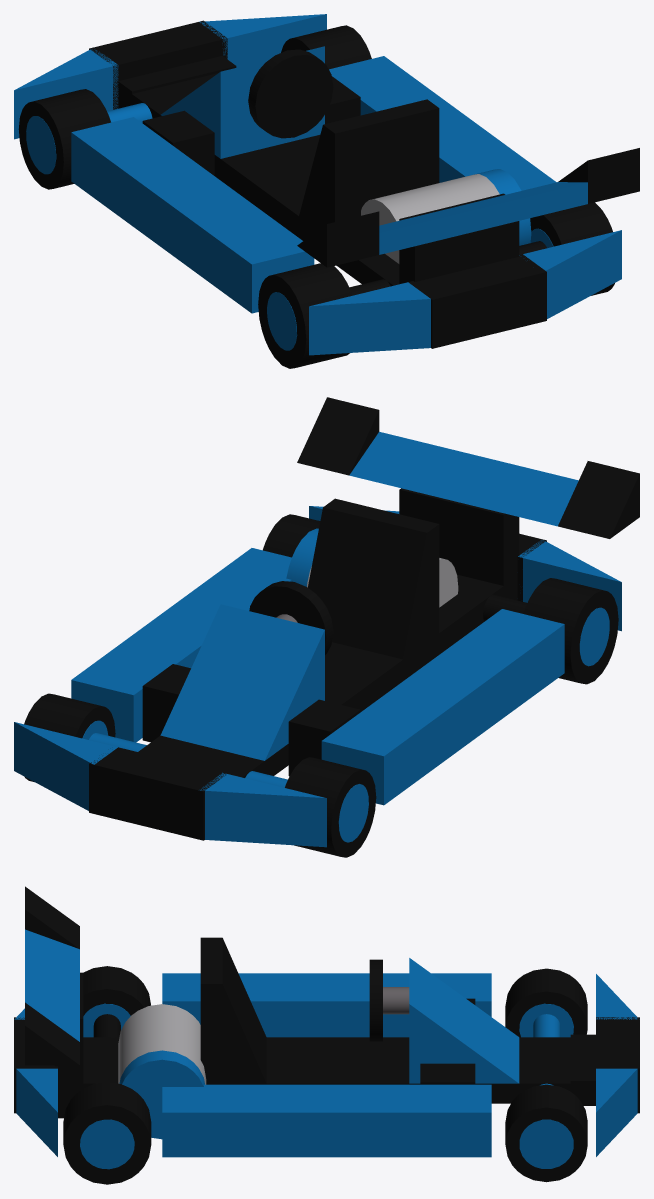
Rendered from Cart5.fbx.
3 renders of one model, top to bottom at view 1: azimuth 30°, elevation 25°; view 2: azimuth 150°, elevation 25°; view 3: azimuth 270°, elevation 25°, orthographic. The views are drawn at different scales.
Visible parts, largest first — view 1: Cart5.001; view 2: Cart5.001; view 3: Cart5.001.
Boxes of the visible parts, x1,y1,x2,y2 form: Cart5.001: [14, 14, 639, 368]; Cart5.001: [14, 397, 639, 857]; Cart5.001: [14, 886, 639, 1184].
Bounding box in the file's own units: 187 × 99.9 × 356.
